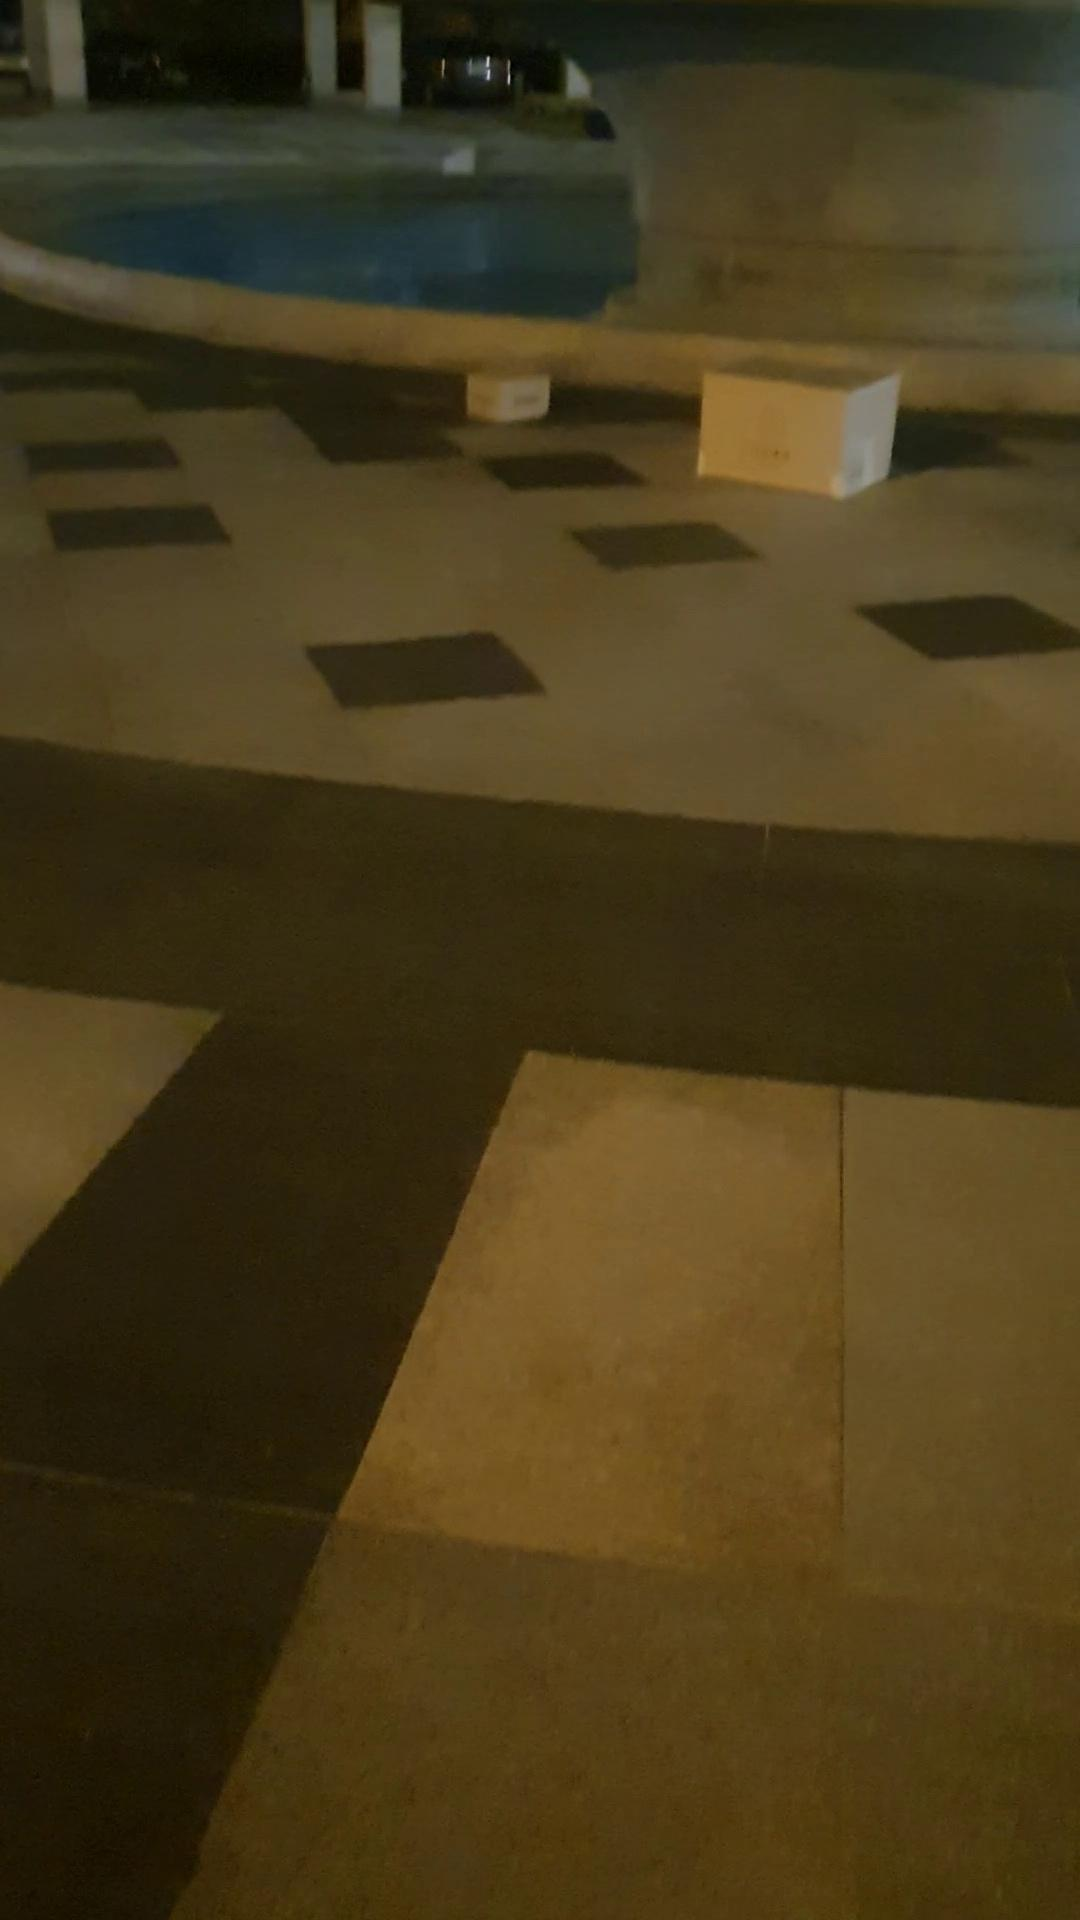Box: (686, 340, 902, 502), (454, 355, 556, 433)
